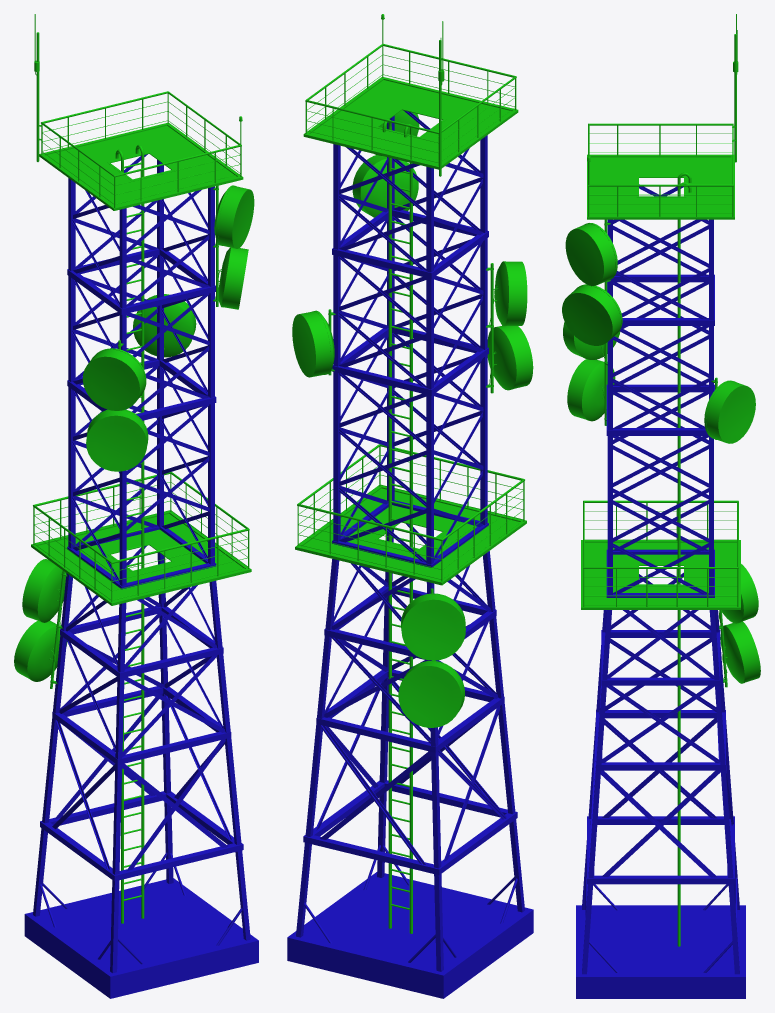
The picture shows the model from 3 angles, left to right: view 1: azimuth 30°, elevation 25°; view 2: azimuth 150°, elevation 25°; view 3: azimuth 270°, elevation 25°; orthographic projection. The views are drawn at different scales.
Parts seen in each view (by area): view 1: Tower (×2); view 2: Tower (×2); view 3: Tower (×2).
Boxes of the visible parts, bbox=[...] form: Tower (×2): bbox=[14, 14, 258, 998]; Tower (×2): bbox=[287, 14, 533, 998]; Tower (×2): bbox=[562, 14, 760, 998].
Bounding box in the file's own units: 324 × 1665 × 328.
